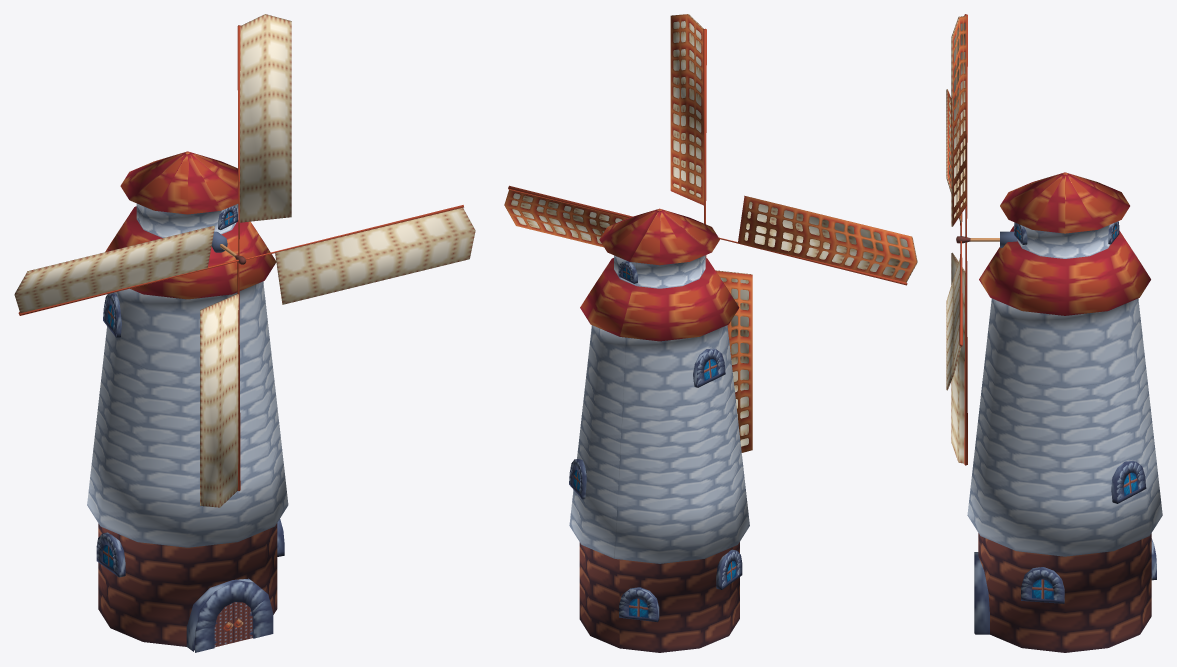
The model's file is Moinho.fbx.
The picture shows the model from 3 angles, left to right: view 1: azimuth 30°, elevation 25°; view 2: azimuth 150°, elevation 25°; view 3: azimuth 270°, elevation 25°; orthographic projection. The views are drawn at different scales.
Visible parts, largest first — view 1: Moinho_Grande; view 2: Moinho_Grande; view 3: Moinho_Grande.
Boxes of the visible parts, x1,y1,x2,y2 form: Moinho_Grande: (14,14,475,652); Moinho_Grande: (504,14,917,652); Moinho_Grande: (946,14,1162,652).
Size of the model in its own units: 2149 by 902 by 2806.
